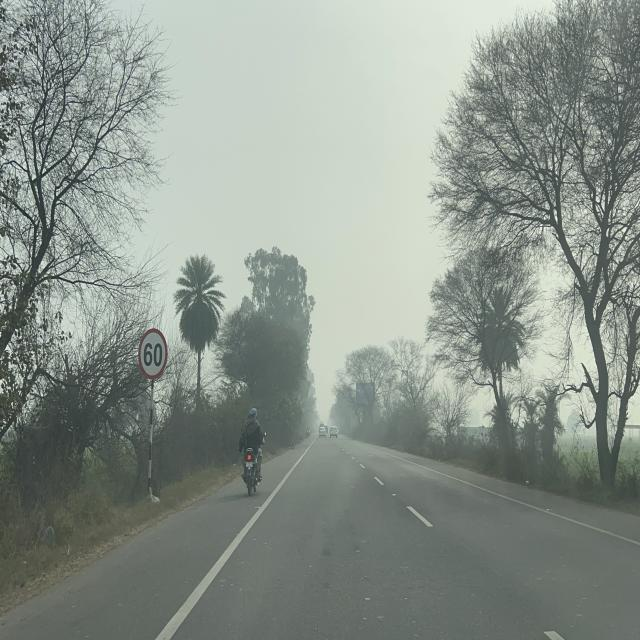SPEED_LIMIT_60: (138, 327, 168, 380)
